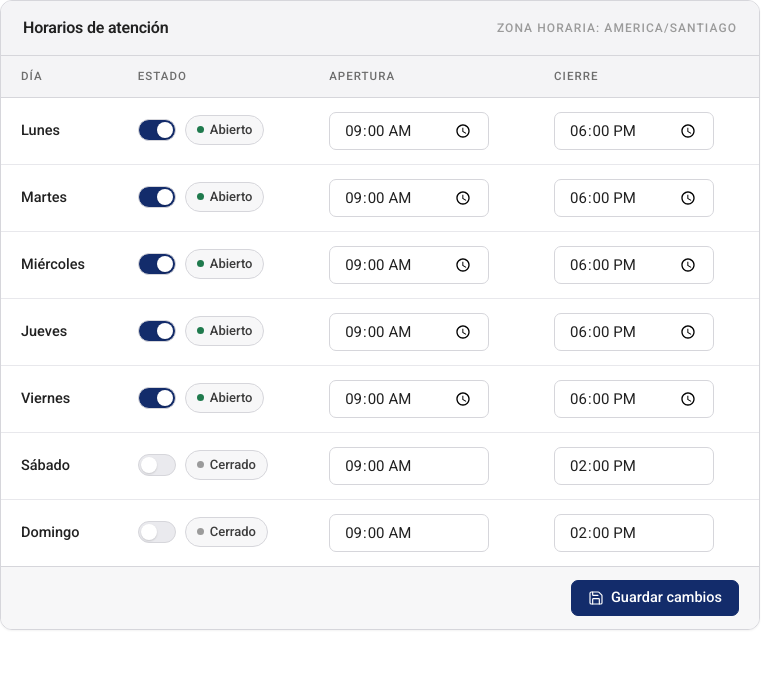
it: ScheduleEditor — UI & Validation Integration › shows error message and blocks submission when open_time is greater or equal to close_time
Replace the text in the time field named "Lunes Hora Cierre" with "08:00": {"x": 634, "y": 131} 554,112 -> 714,150
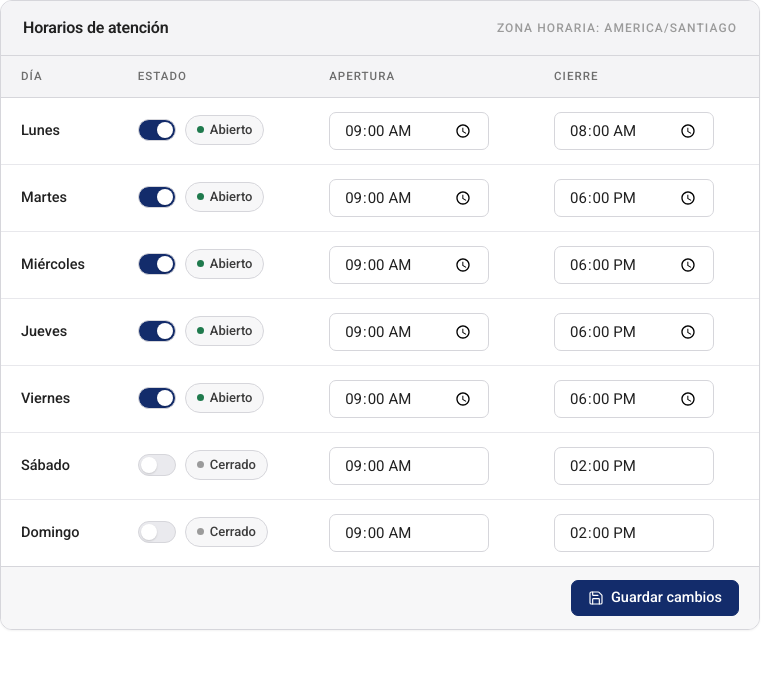
Note: Submit form
Submit the form
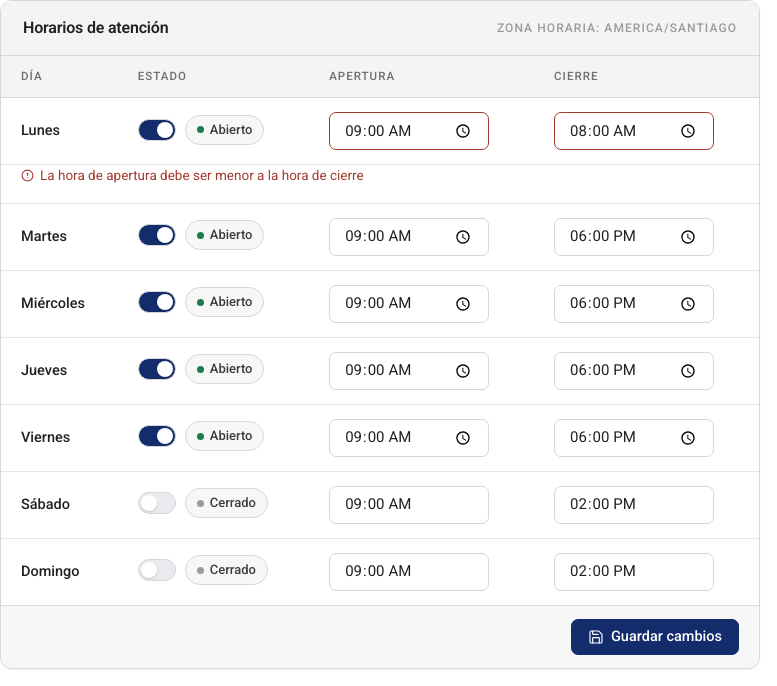
Check: the text "La hora de apertura debe ser menor a la hora de cierre" is shown, box 21,165 -> 364,186
